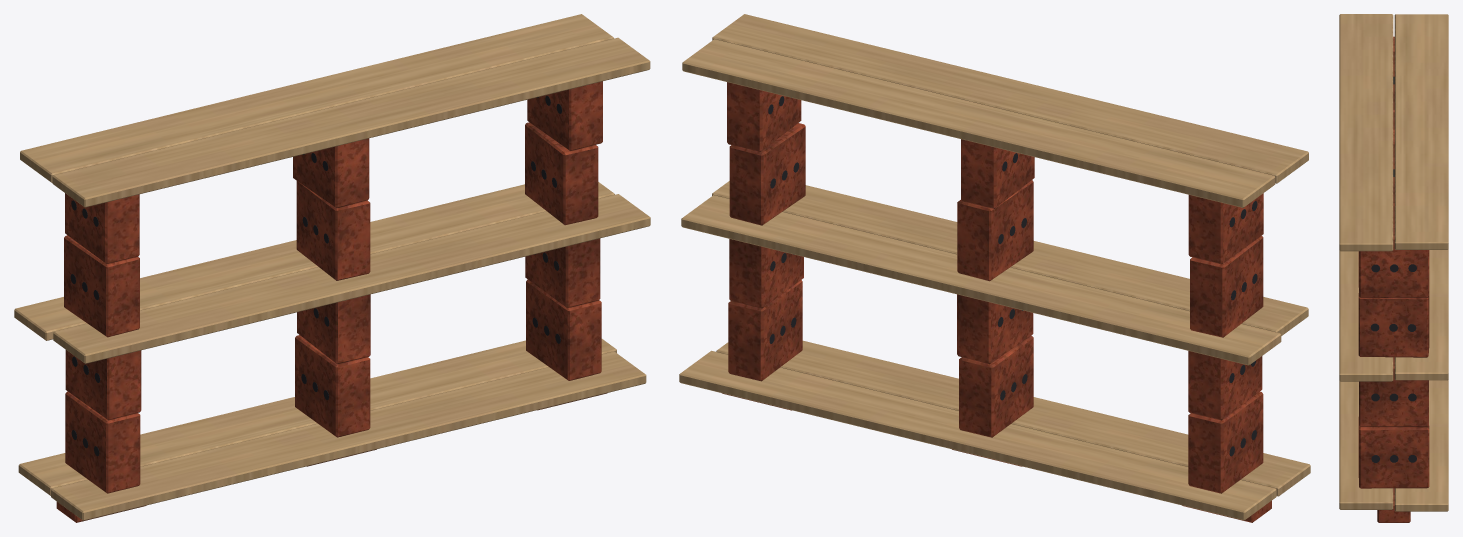
The model's file is prateleira_improvisada.glb.
The picture shows the model from 3 angles, left to right: view 1: azimuth 30°, elevation 25°; view 2: azimuth 150°, elevation 25°; view 3: azimuth 270°, elevation 25°; orthographic projection. The views are drawn at different scales.
Parts seen in each view (by area): view 1: prateleira_improvisada_madeira_crua, prateleira_improvisada_tijolo, prateleira_improvisada_carvao; view 2: prateleira_improvisada_madeira_crua, prateleira_improvisada_tijolo, prateleira_improvisada_carvao; view 3: prateleira_improvisada_madeira_crua, prateleira_improvisada_tijolo, prateleira_improvisada_carvao.
Part boxes in pixels (x1,y1,x2,y2): prateleira_improvisada_madeira_crua: [14, 14, 650, 520]; prateleira_improvisada_tijolo: [56, 81, 607, 522]; prateleira_improvisada_carvao: [70, 95, 562, 456]; prateleira_improvisada_madeira_crua: [679, 14, 1310, 520]; prateleira_improvisada_tijolo: [722, 82, 1271, 522]; prateleira_improvisada_carvao: [768, 96, 1257, 456]; prateleira_improvisada_madeira_crua: [1339, 14, 1448, 511]; prateleira_improvisada_tijolo: [1358, 36, 1429, 522]; prateleira_improvisada_carvao: [1370, 76, 1416, 462].
Size of the model in its own units: 1.49 by 0.859 by 0.296.
3 materials, 2 textured.
